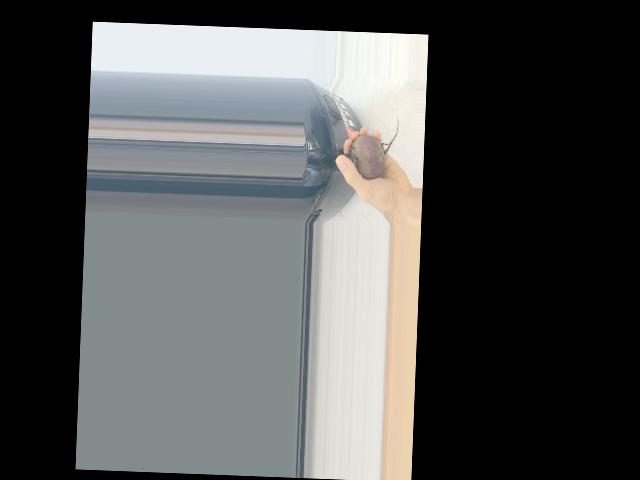beet: (343, 116, 399, 180)
